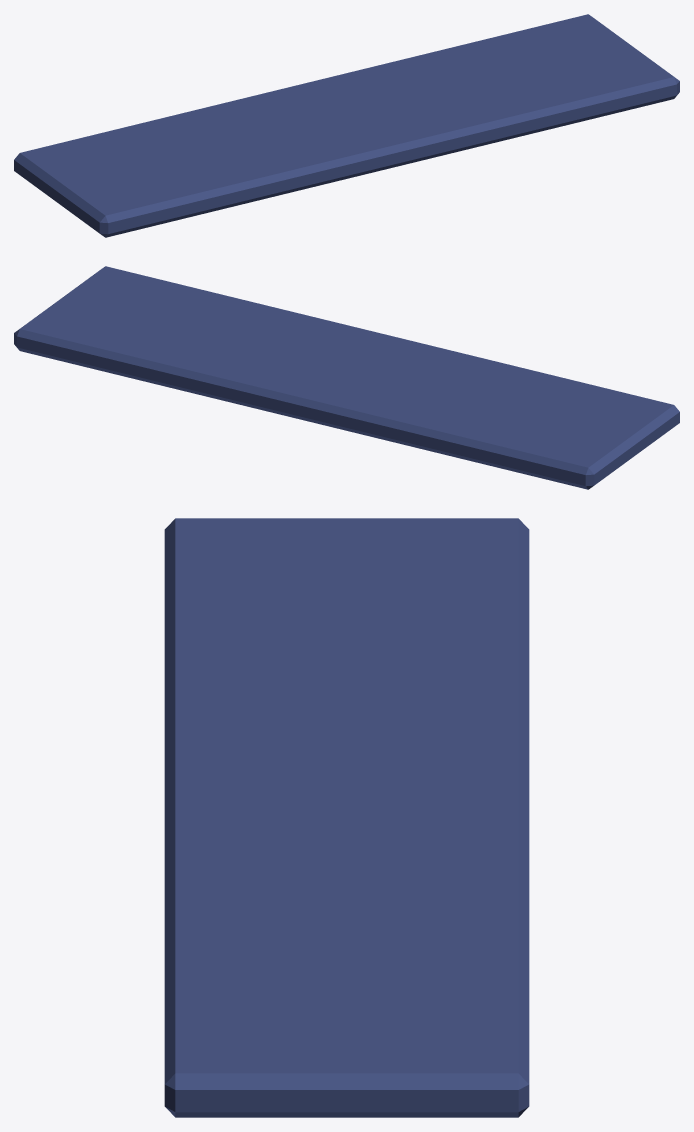
The model's file is shelf.fbx.
3 renders of one model, top to bottom at view 1: azimuth 30°, elevation 25°; view 2: azimuth 150°, elevation 25°; view 3: azimuth 270°, elevation 25°, orthographic. The views are drawn at different scales.
Parts seen in each view (by area): view 1: hylla; view 2: hylla; view 3: hylla.
Boxes of the visible parts, <box> form: hylla: <box>14,14,679,237</box>; hylla: <box>14,266,679,489</box>; hylla: <box>164,518,529,1117</box>.
Bounding box in the file's own units: 2.76 × 0.1005 × 0.7509.
